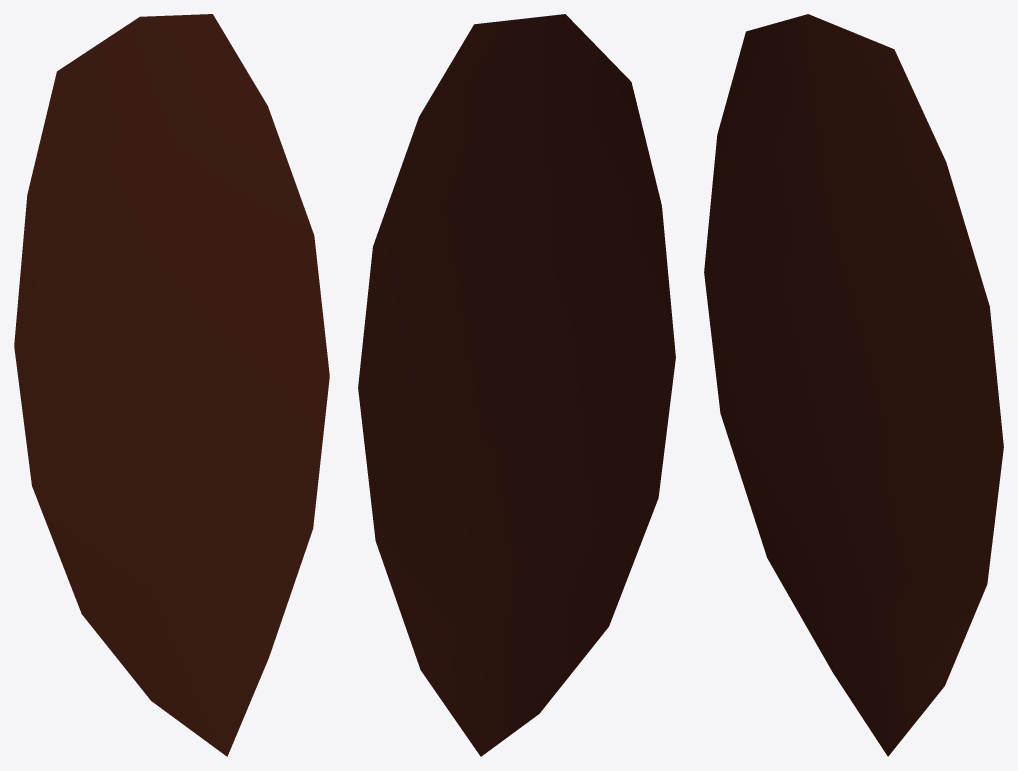
File: hen_feather_flight_tertiary_015.obj
3 renders of one model, left to right at view 1: azimuth 30°, elevation 25°; view 2: azimuth 150°, elevation 25°; view 3: azimuth 330°, elevation 25°, orthographic. The views are drawn at different scales.
Visible parts, largest first — view 1: feather_flight_tertiary_015; view 2: feather_flight_tertiary_015; view 3: feather_flight_tertiary_015.
Boxes of the visible parts, bbox=[...] form: feather_flight_tertiary_015: bbox=[14, 14, 329, 756]; feather_flight_tertiary_015: bbox=[358, 14, 675, 756]; feather_flight_tertiary_015: bbox=[704, 14, 1003, 756].
Size of the model in its own units: 0.0108 by 0.0248 by 0.000628.
